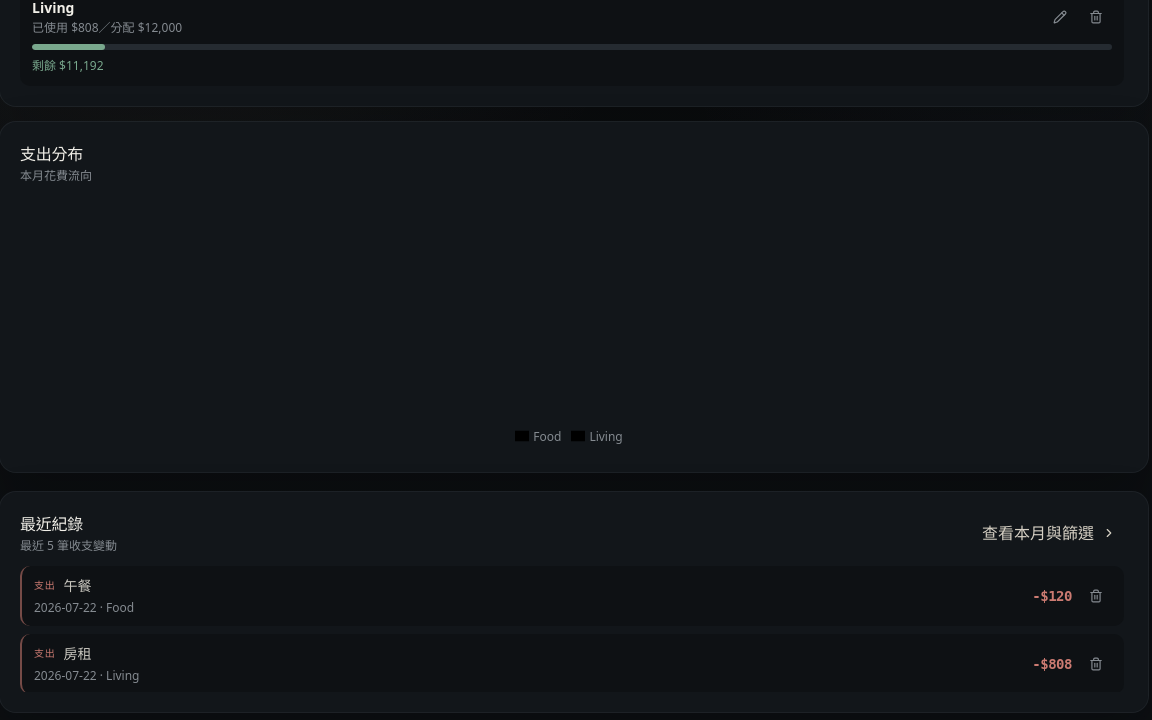
Test case: FinanceDashboard › filters the full transaction list by category and date
The image size is (1152, 720).
(page scrolled)
Click the button "查看本月與篩選" at (1049,532), box left=970, top=514, right=1128, bottom=550
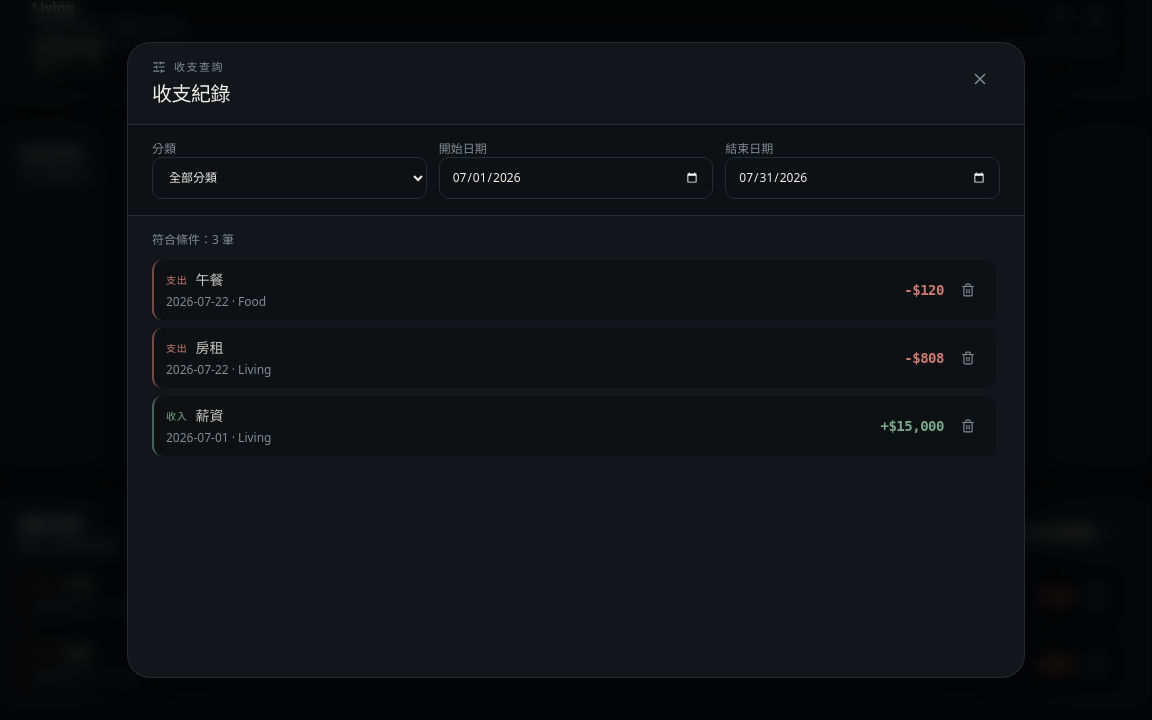
Expected: the text "符合條件：3 筆" is shown, left=152, top=231, right=234, bottom=248
Select "Food" in the dropdown labelled "分類" at (289,178), box left=152, top=157, right=427, bottom=199
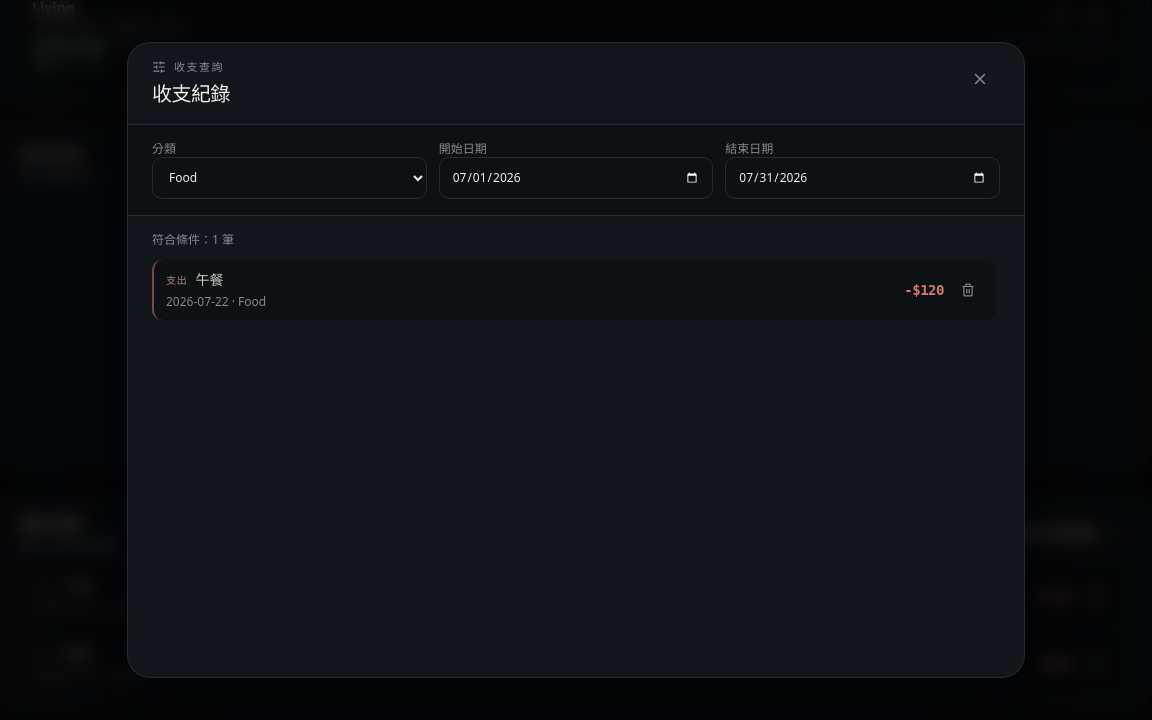
Expected: the text "午餐" is shown, left=196, top=270, right=224, bottom=290
Expected: the text "符合條件：1 筆" is shown, left=152, top=231, right=234, bottom=248
